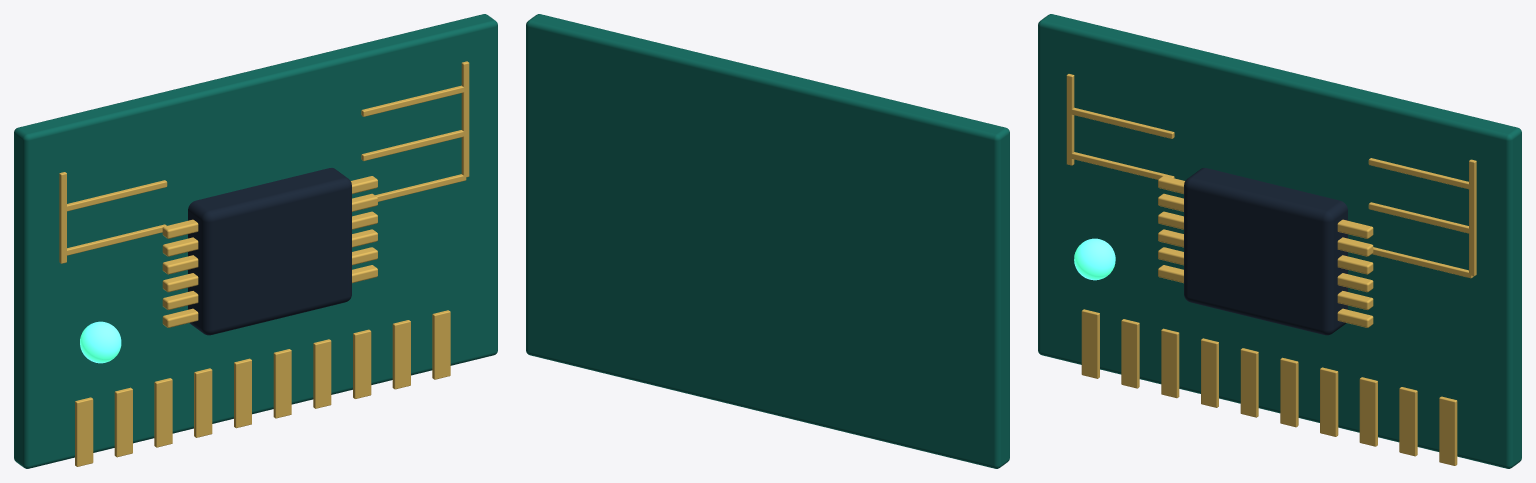
File: placa.glb
3 views of the same model, side by side, from view 1: azimuth 30°, elevation 25°; view 2: azimuth 150°, elevation 25°; view 3: azimuth 330°, elevation 25° (orthographic).
Visible parts, largest first — view 1: Base, Chip, Conectores, Trilhas, PlacaEletronica; view 2: Base; view 3: Base, Chip, Conectores, Trilhas, PlacaEletronica.
Part boxes in pixels (x1=…): Base: x1=14, y1=14, x2=497, y2=468; Chip: x1=162, y1=168, x2=377, y2=335; Conectores: x1=75, y1=310, x2=450, y2=466; Trilhas: x1=59, y1=61, x2=469, y2=263; PlacaEletronica: x1=80, y1=321, x2=121, y2=363; Base: x1=526, y1=14, x2=1009, y2=468; Base: x1=1038, y1=14, x2=1521, y2=468; Chip: x1=1158, y1=168, x2=1373, y2=335; Conectores: x1=1081, y1=309, x2=1457, y2=465; Trilhas: x1=1066, y1=74, x2=1476, y2=278; PlacaEletronica: x1=1074, y1=238, x2=1115, y2=280.
Size of the model in its own units: 0.92 by 0.63 by 0.1075.
